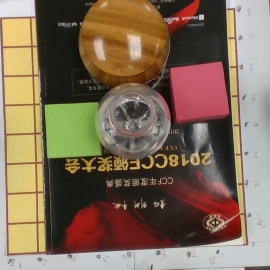bottle: (95, 83, 170, 159)
chess: (78, 1, 171, 84)
